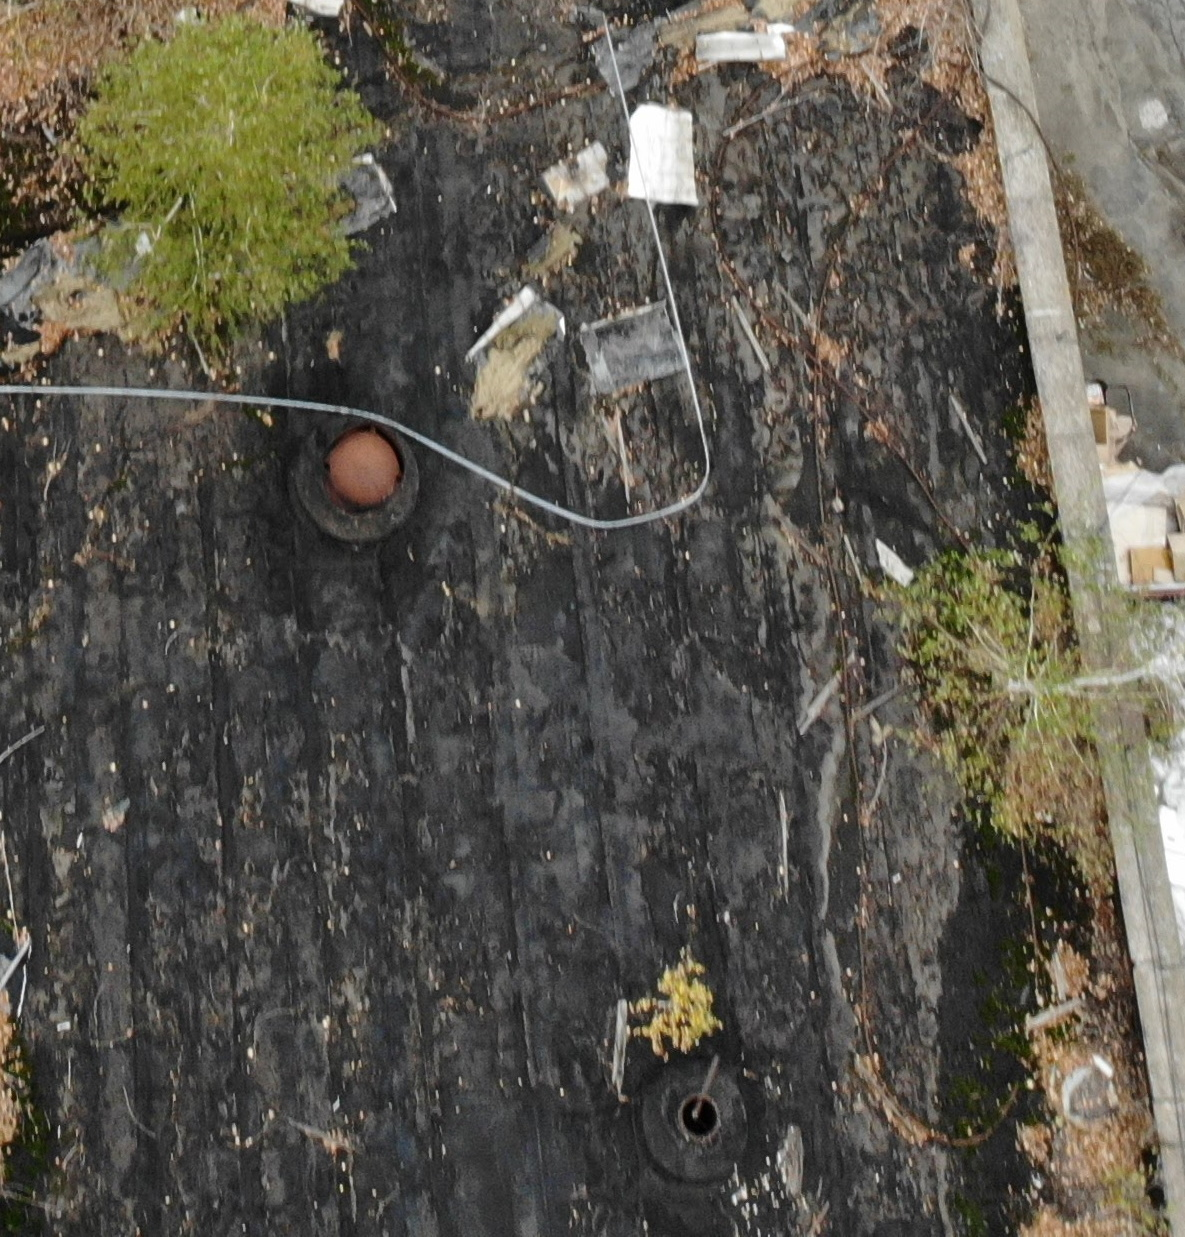tree: (54, 14, 412, 390), (854, 499, 1170, 873), (620, 911, 744, 1074)
